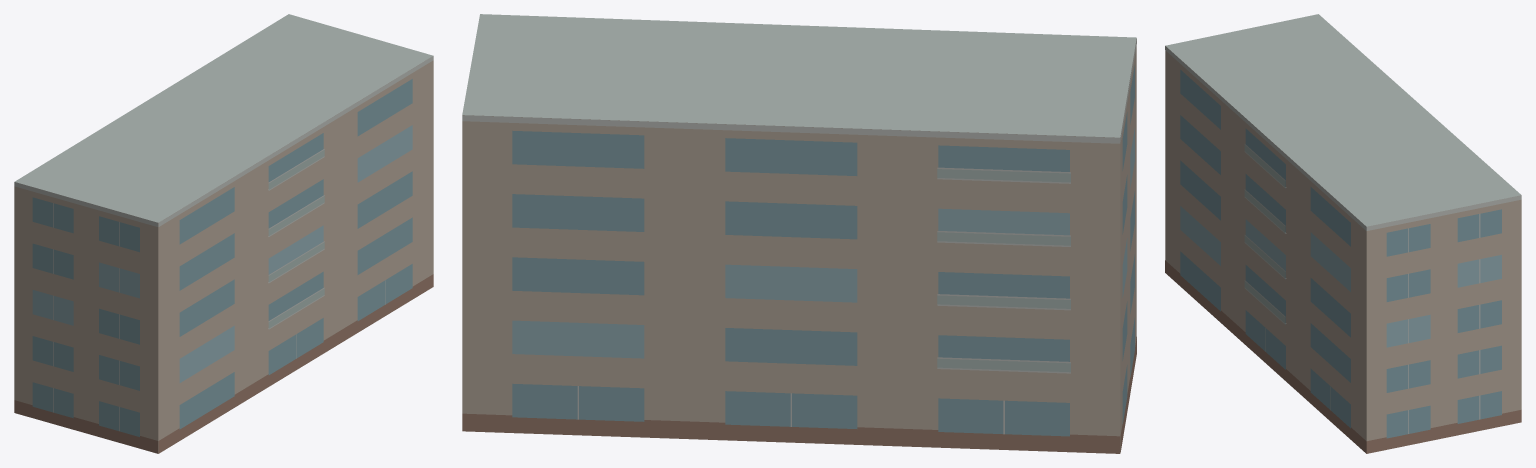
The model's file is survey-upis-32740880.glb.
3 views of the same model, side by side, from view 1: azimuth 30°, elevation 25°; view 2: azimuth 150°, elevation 25°; view 3: azimuth 270°, elevation 25° (orthographic). The views are drawn at different scales.
Parts seen in each view (by area): view 1: survey-upis-32740880.tmp; view 2: survey-upis-32740880.tmp; view 3: survey-upis-32740880.tmp.
Boxes of the visible parts, <box> form: survey-upis-32740880.tmp: <box>14,14,433,453</box>; survey-upis-32740880.tmp: <box>462,14,1136,453</box>; survey-upis-32740880.tmp: <box>1165,14,1521,453</box>.
Bounding box in the file's own units: 25.12 × 12.5 × 17.79.
